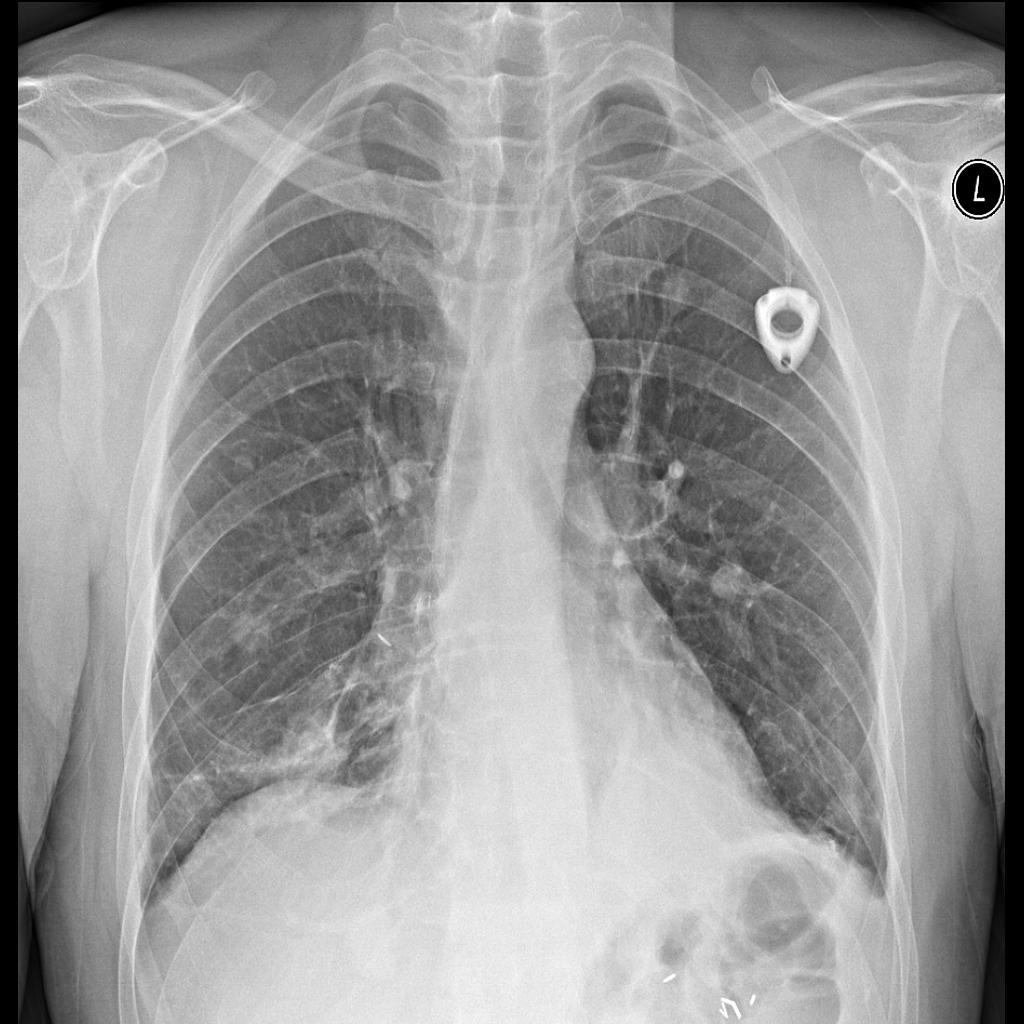Nodule: (221, 600, 278, 658), (709, 554, 752, 612), (660, 272, 703, 326)
